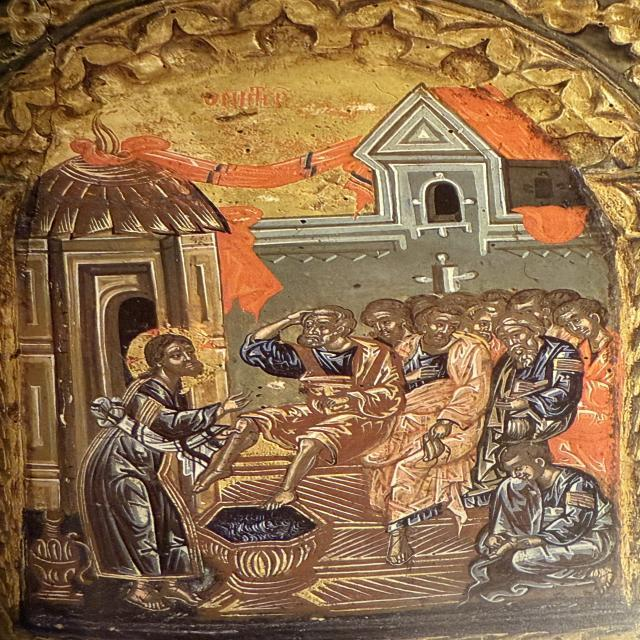aura: (124, 325, 222, 391)
basin: (195, 498, 333, 618)
christ: (58, 324, 255, 620)
christ_hand: (202, 389, 264, 423)
person: (237, 297, 401, 481), (471, 447, 627, 595), (393, 306, 491, 530), (484, 313, 581, 464)
